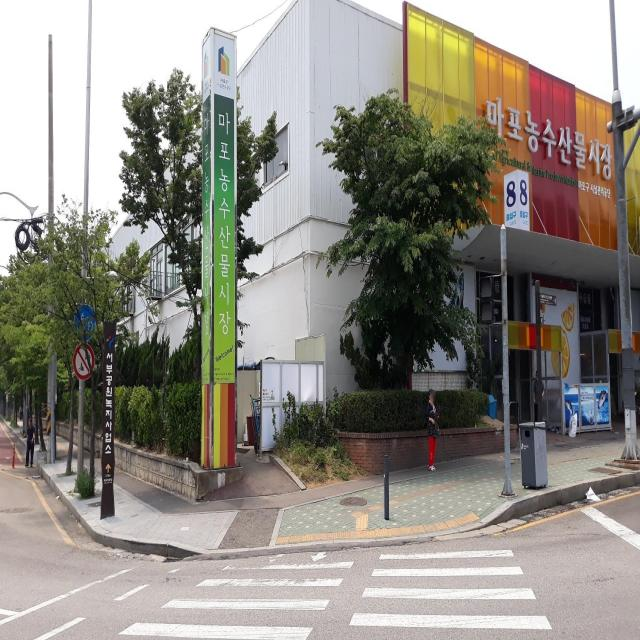횡단보도: (106, 549, 554, 640)
